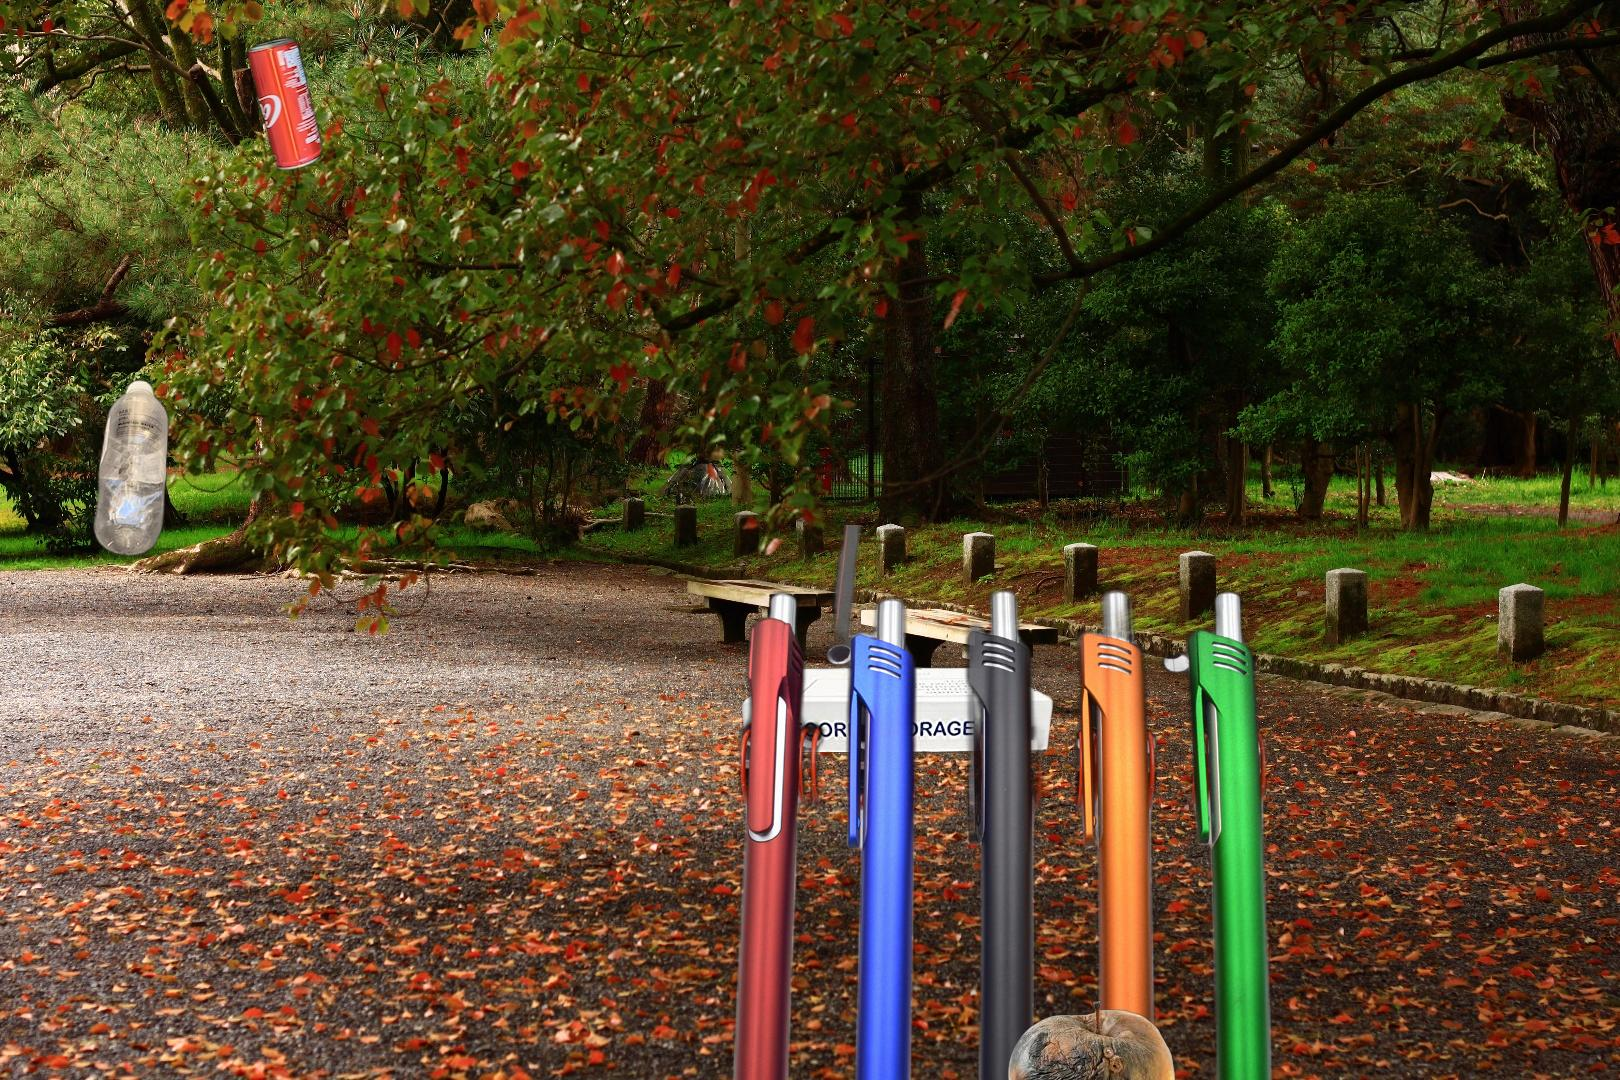biological: (1005, 998, 1178, 1080)
metal-cans: (243, 33, 327, 176)
penholder: (724, 526, 1279, 1080)
plastic-bottles: (1026, 947, 1538, 1080), (89, 374, 174, 563)
trashbox-cardboard: (738, 664, 1056, 756)
